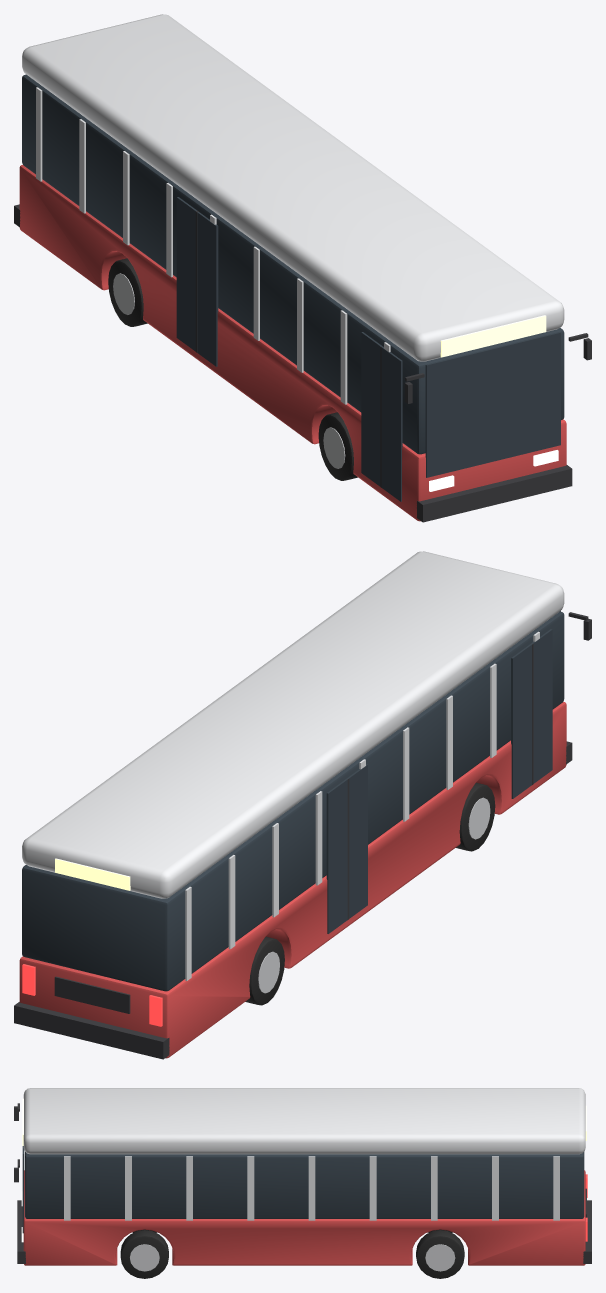
Rendered from car_bus.glb.
The picture shows the model from 3 angles, top to bottom: view 1: azimuth 30°, elevation 25°; view 2: azimuth 150°, elevation 25°; view 3: azimuth 270°, elevation 25°; orthographic projection. The views are drawn at different scales.
Visible parts, largest first — view 1: body, wheel_rr, wheel_fr; view 2: body, wheel_rr, wheel_fr; view 3: body, wheel_rl, wheel_fl.
Part boxes in pixels (x1,y1,x2,y2): body: (14, 14, 591, 522); wheel_rr: (108, 258, 147, 326); wheel_fr: (318, 412, 357, 480); body: (14, 551, 591, 1059); wheel_rr: (245, 936, 284, 1005); wheel_fr: (456, 782, 495, 851); body: (14, 1088, 591, 1265); wheel_rl: (416, 1230, 464, 1278); wheel_fl: (120, 1230, 168, 1278).
Size of the model in its own units: 3.08 by 3.27 by 11.93.
